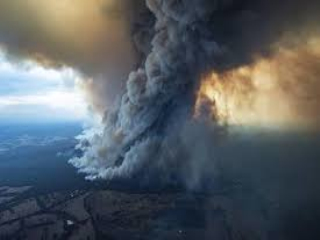smoke: (87, 21, 235, 190)
